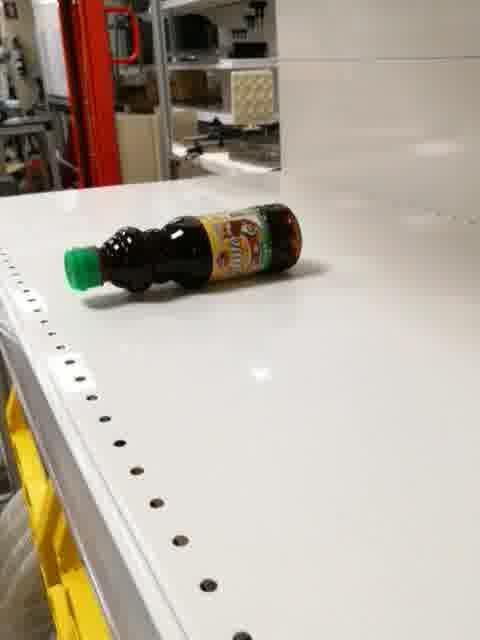cookingoil: (60, 198, 304, 303)
